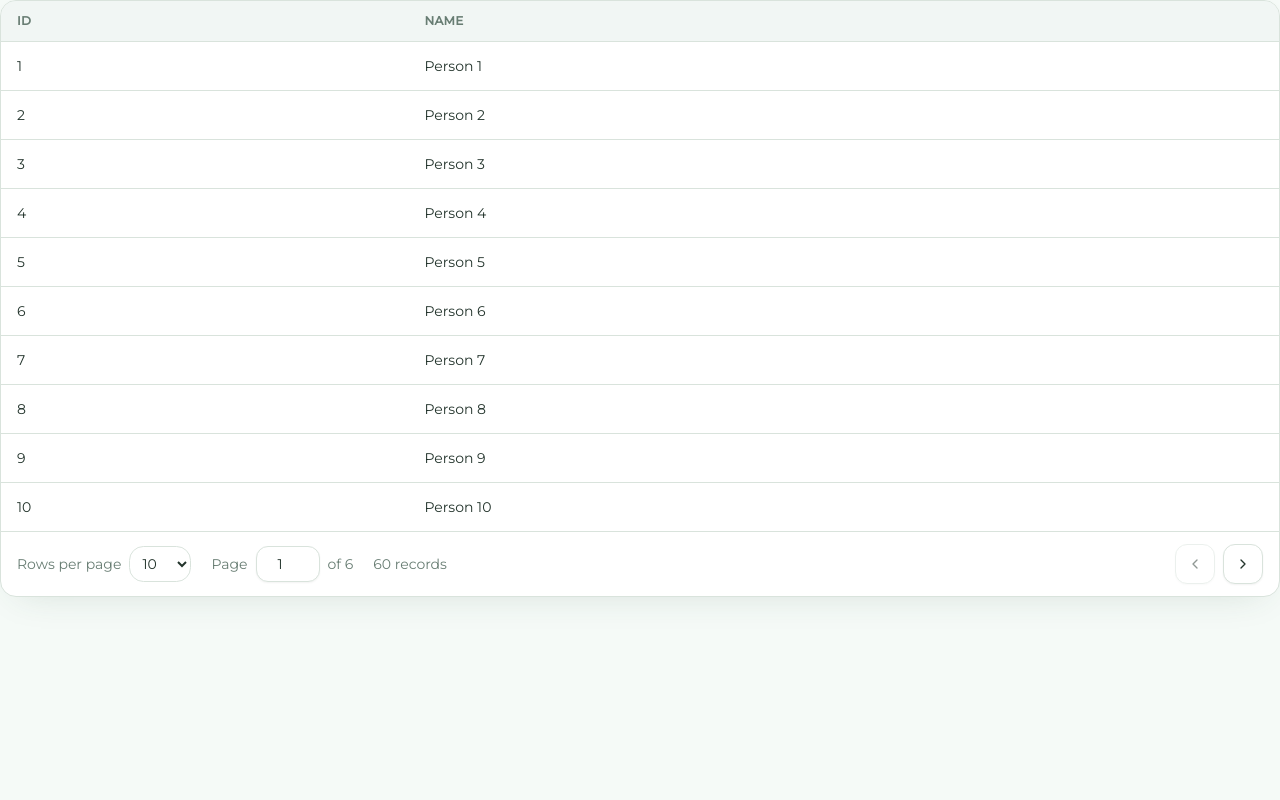
CustomTable › jumps to the entered page and changes the page size
Replace the text in the number field named "Go to page" with "3" at (288, 564), box 256,546 -> 320,582
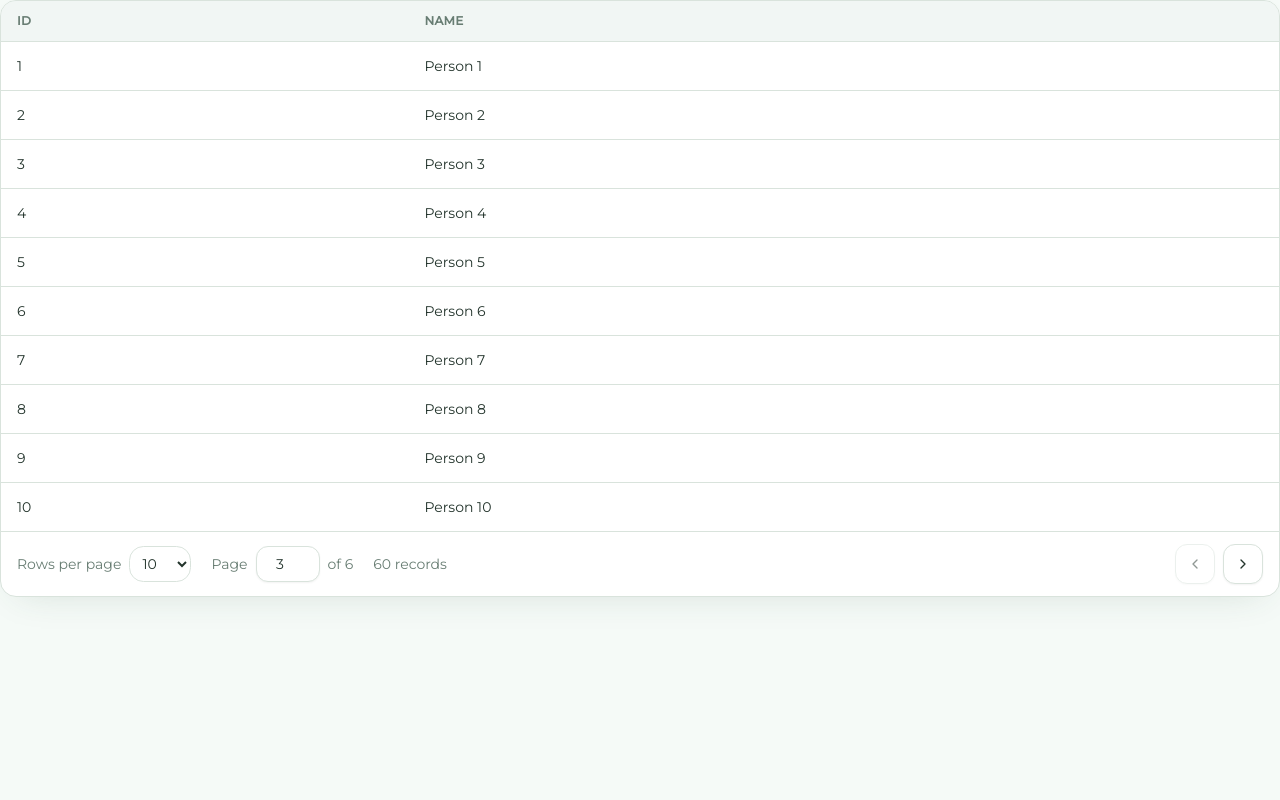
Press Enter in the number field named "Go to page", box 256,546 -> 320,582
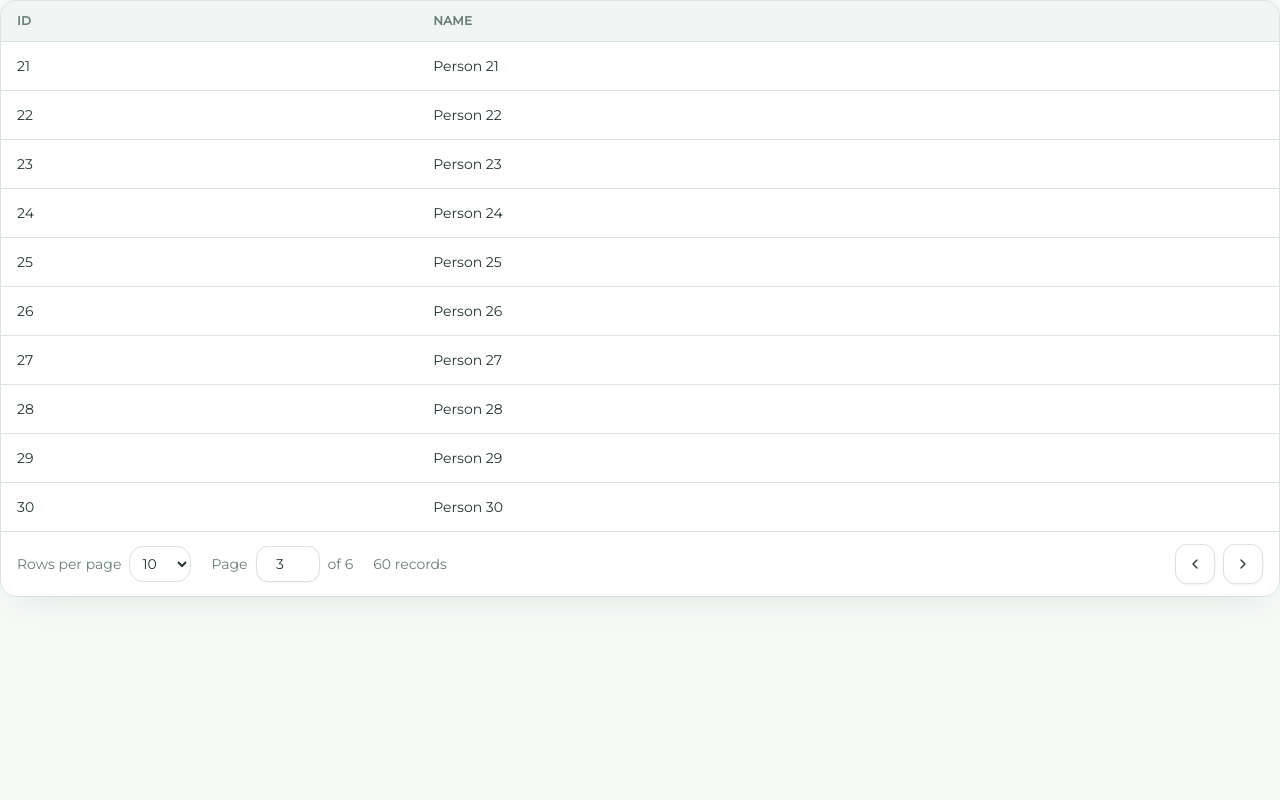
Result: the cell "Person 21" is shown at 417,42 -> 1279,90
Result: the cell "Person 30" is shown at 417,482 -> 1279,531
Select "25" in the dropdown labelled "Rows per page" at (160, 564), box 129,546 -> 191,582
(page scrolled)
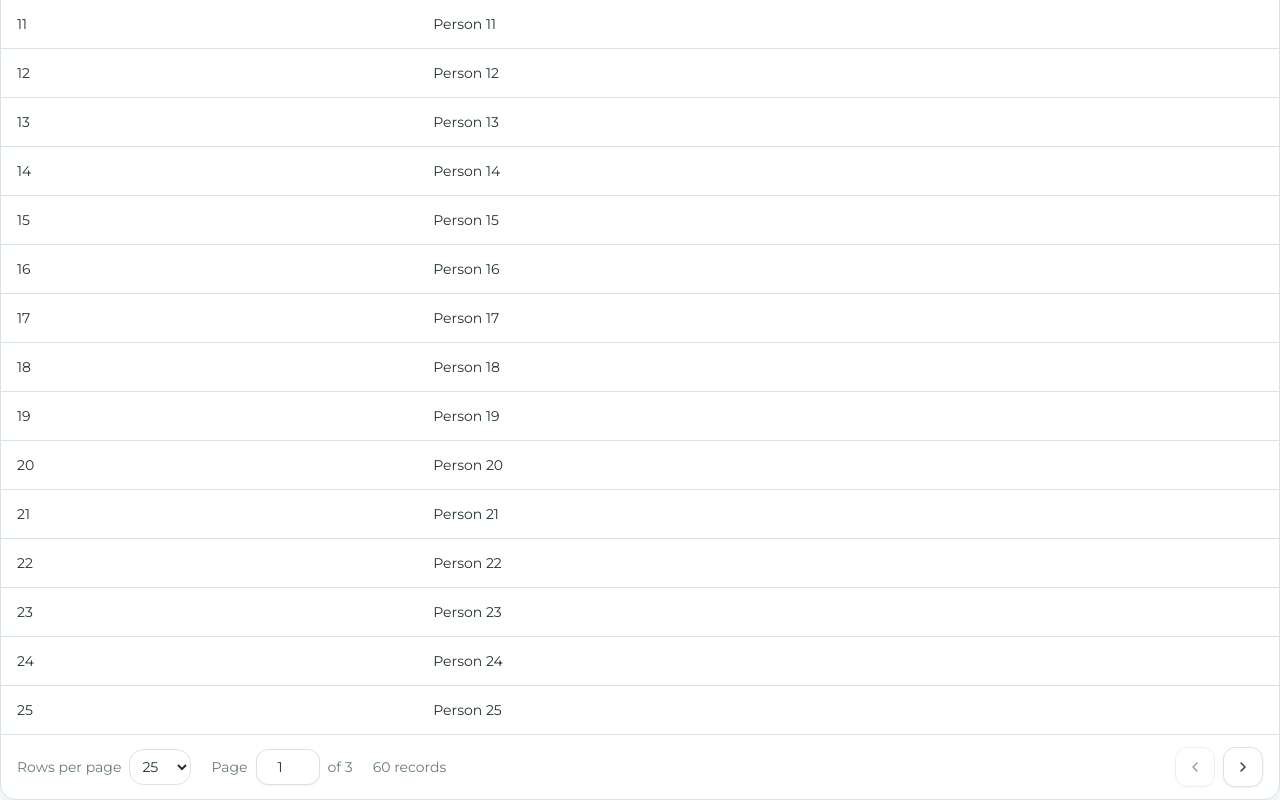
Result: the cell "Person 25" is shown at 417,686 -> 1279,734
Result: the cell "Person 26" is gone
Result: the text "of 3" is shown at 328,757 -> 353,777
